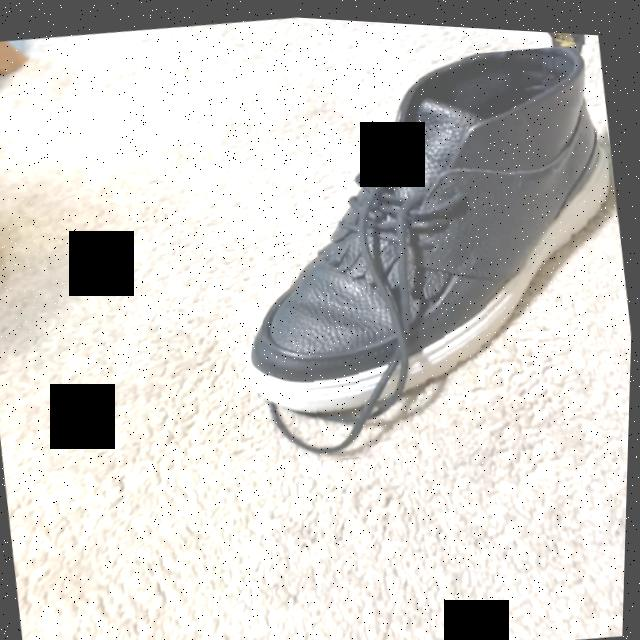shoe: (249, 39, 616, 455)
